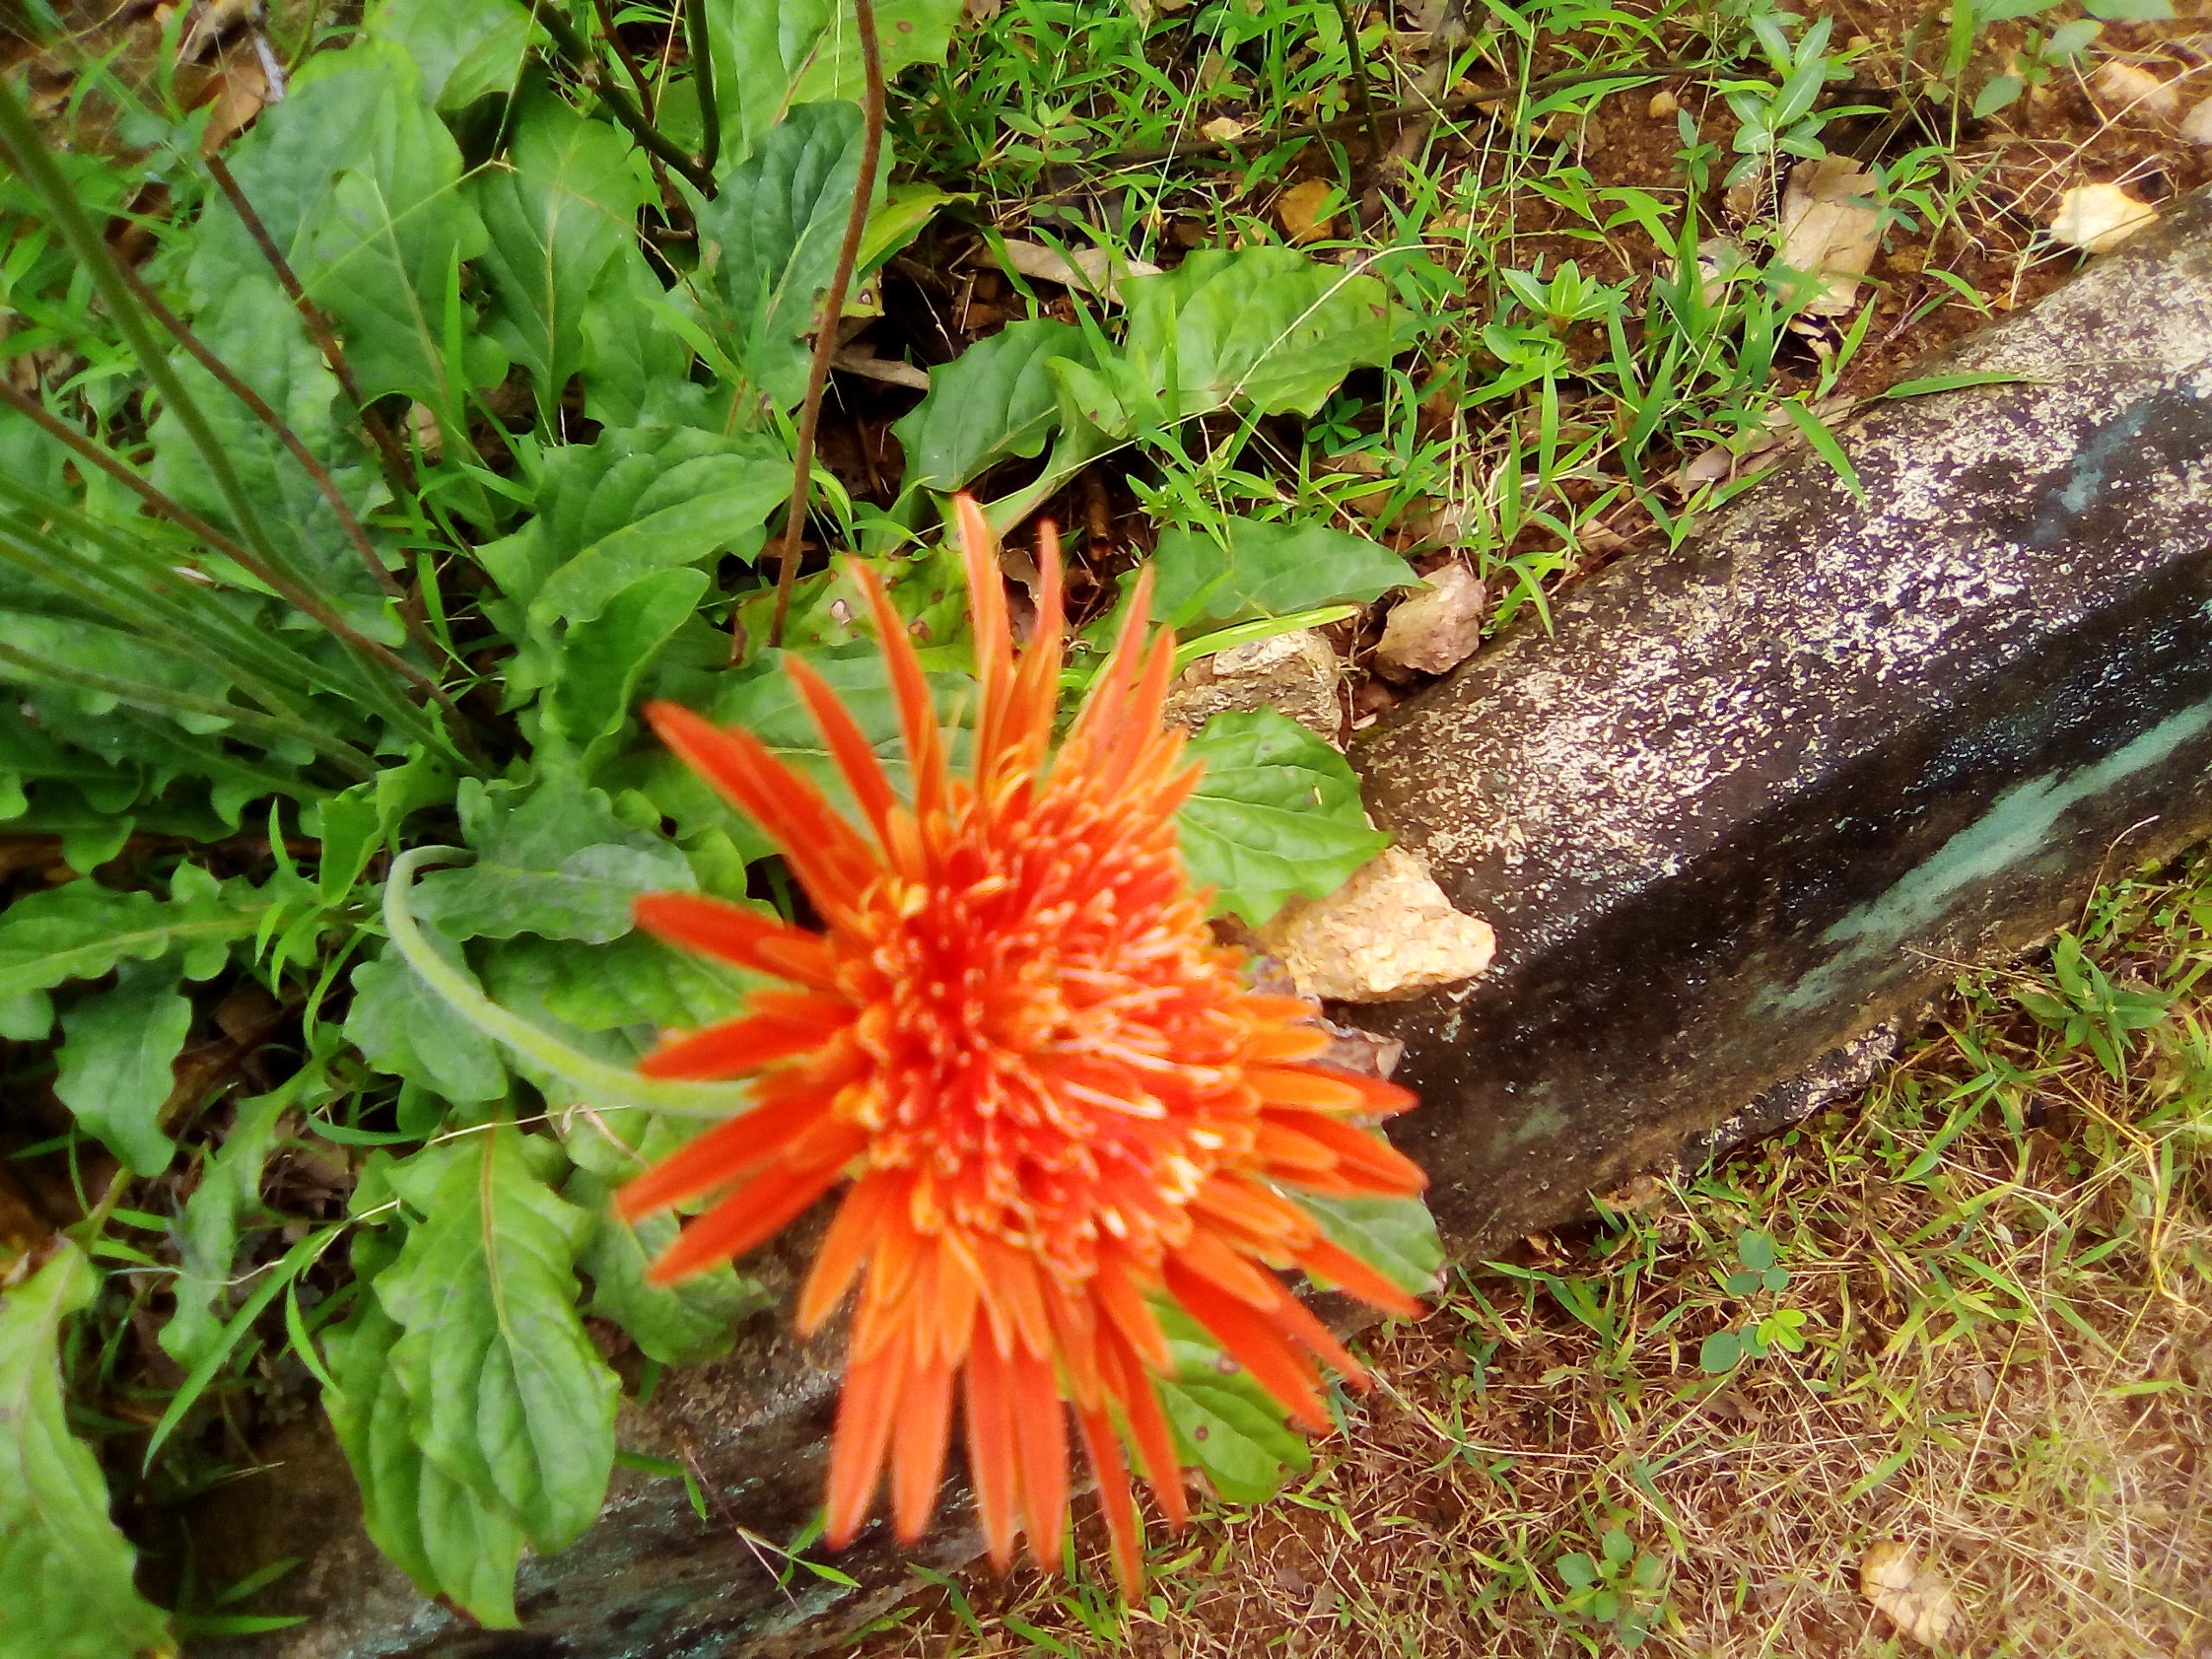ginimala: (639, 559, 1514, 1584)
